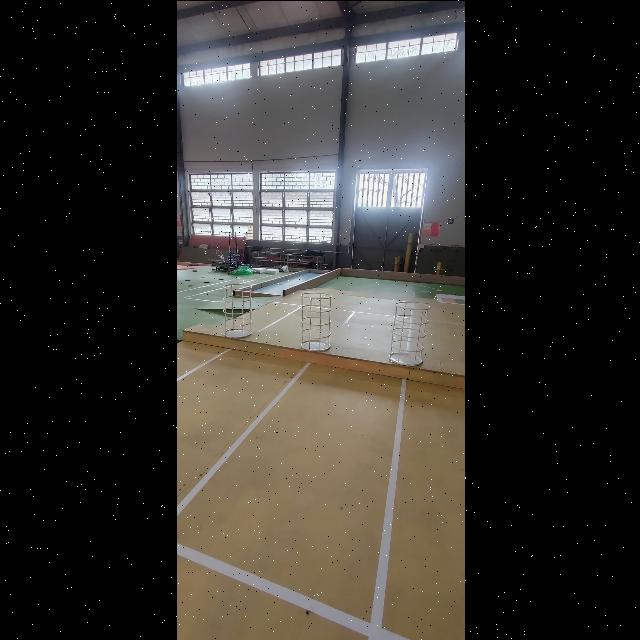S: (388, 301, 430, 365), (300, 291, 330, 351), (221, 284, 251, 338)
